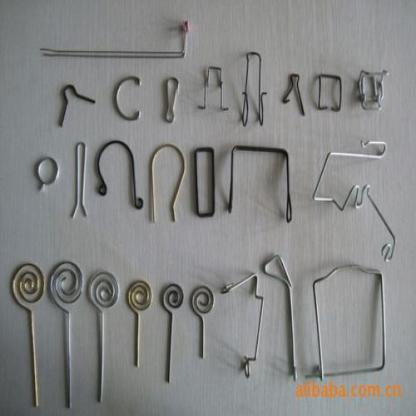FOD: (47, 256, 84, 412), (10, 258, 44, 410), (126, 278, 153, 370), (188, 283, 217, 360)
